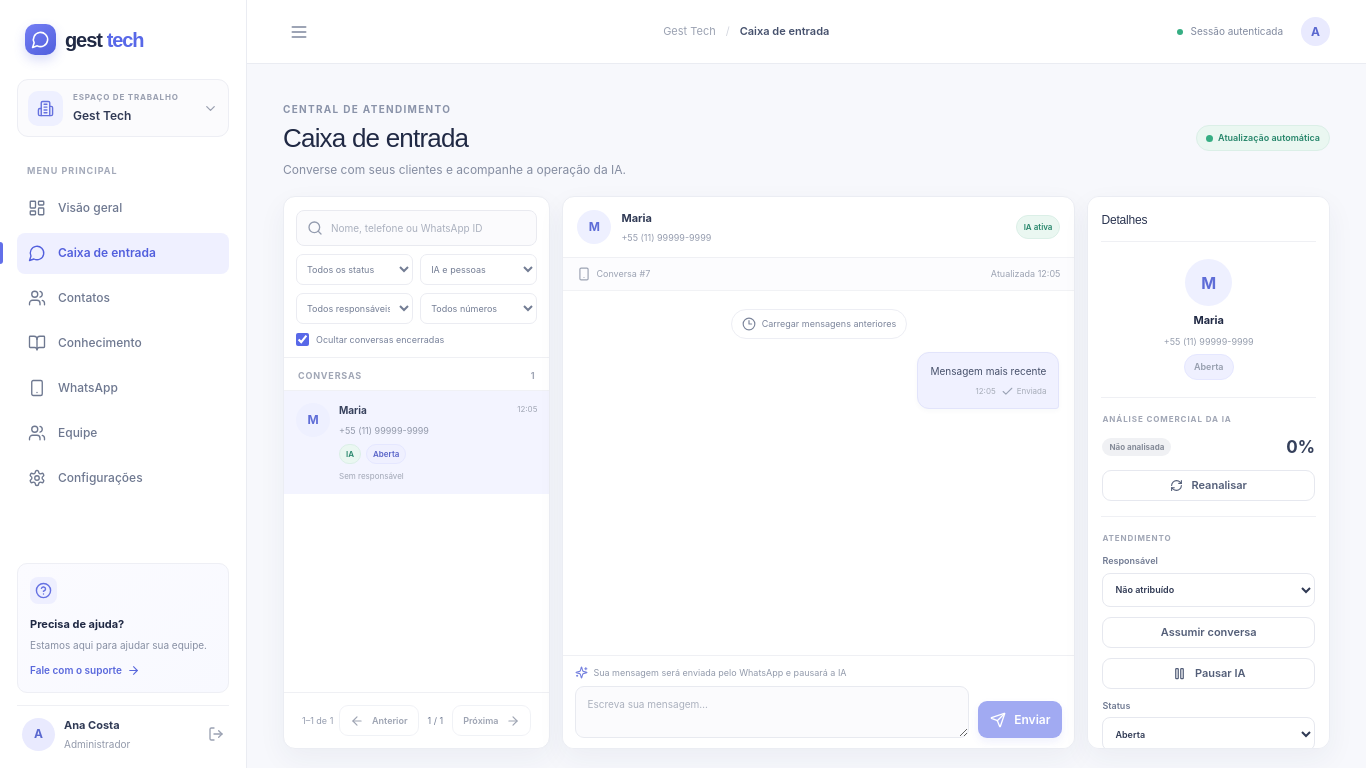
Gest Tech protected app › loads older chronological messages without replacing the latest page
Expected: the text "Mensagem mais recente" is shown, 930,363 -> 1046,380
Click the button "Carregar mensagens anteriores".
click(819, 324)  # box 731,309 -> 907,339
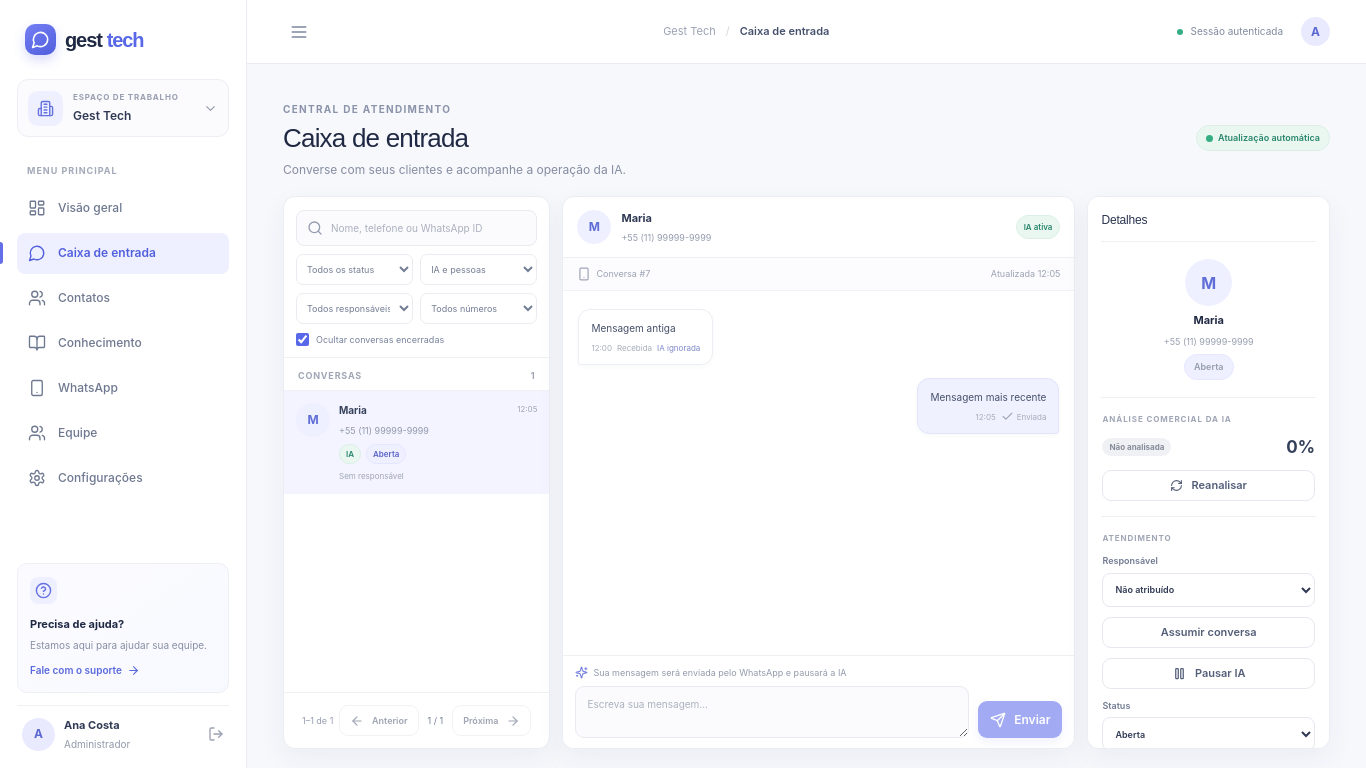
Expected: the text "Mensagem mais recente" is shown, 930,389 -> 1046,405
Result: the text "Mensagem antiga" is shown at 591,322 -> 676,334
